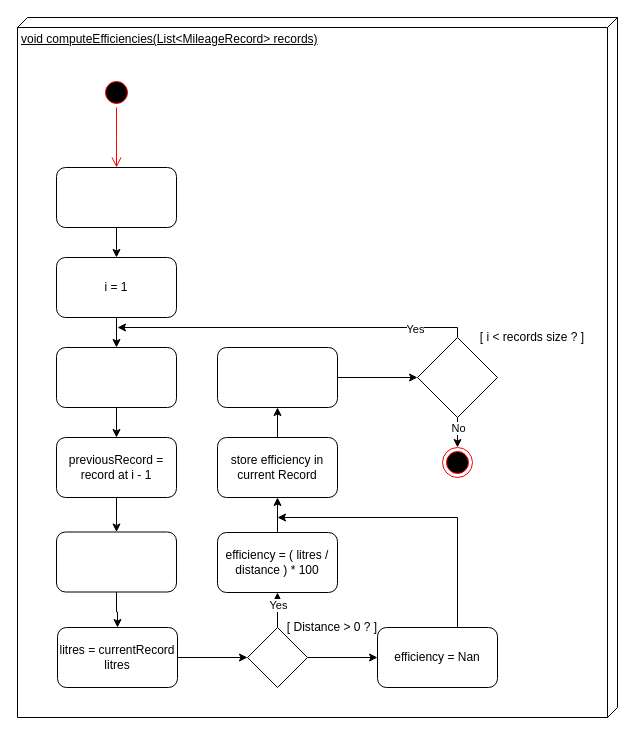
The diagram is 635 pixels wide and 735 high, and some of its shapes have lost their labels. Here are the shapes that lost their labels. From the top down, the centre of each, then its label:
At [116,197]: "records".
At [116,377]: "currentRecord = record at i".
At [277,377]: "i ++".
At [116,561]: "distance = currentRecord km - previousRecord km".
